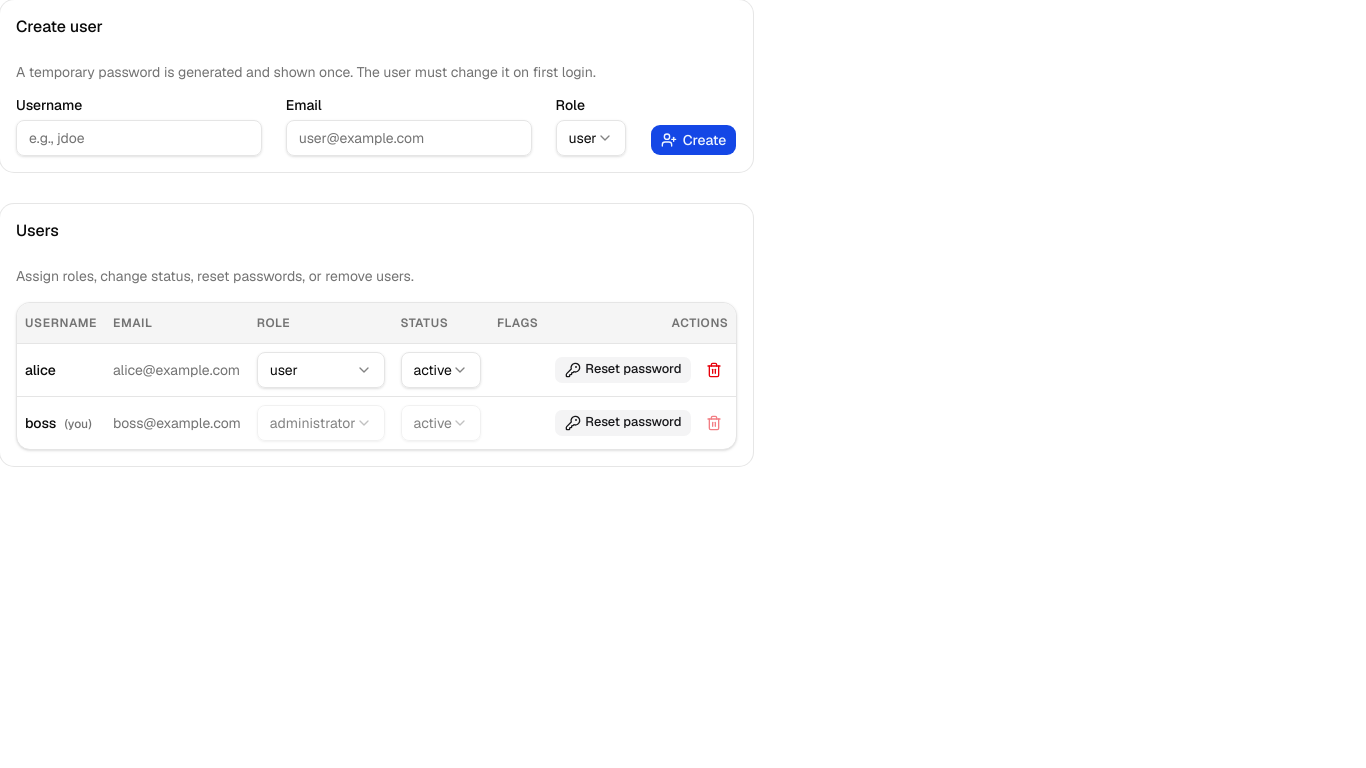
Test: create user shows the temporary password once
Check: the text "alice" is shown, box [25, 360, 56, 378]
Type "newbie" into the field labelled "Username". click: coordinates (139, 138)
box: [16, 120, 262, 156]
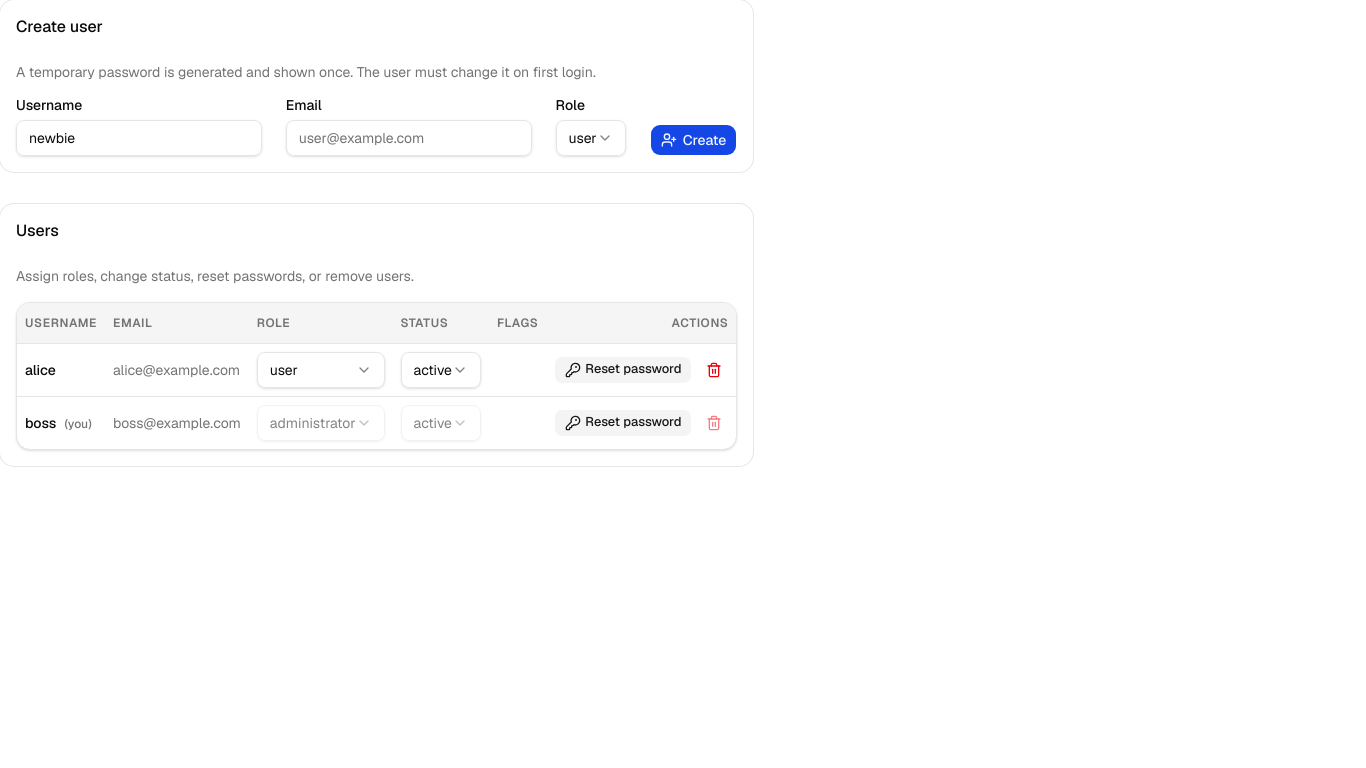
Type "newbie@example.com" into the field labelled "Email". click: coordinates (409, 138)
box: [286, 120, 532, 156]
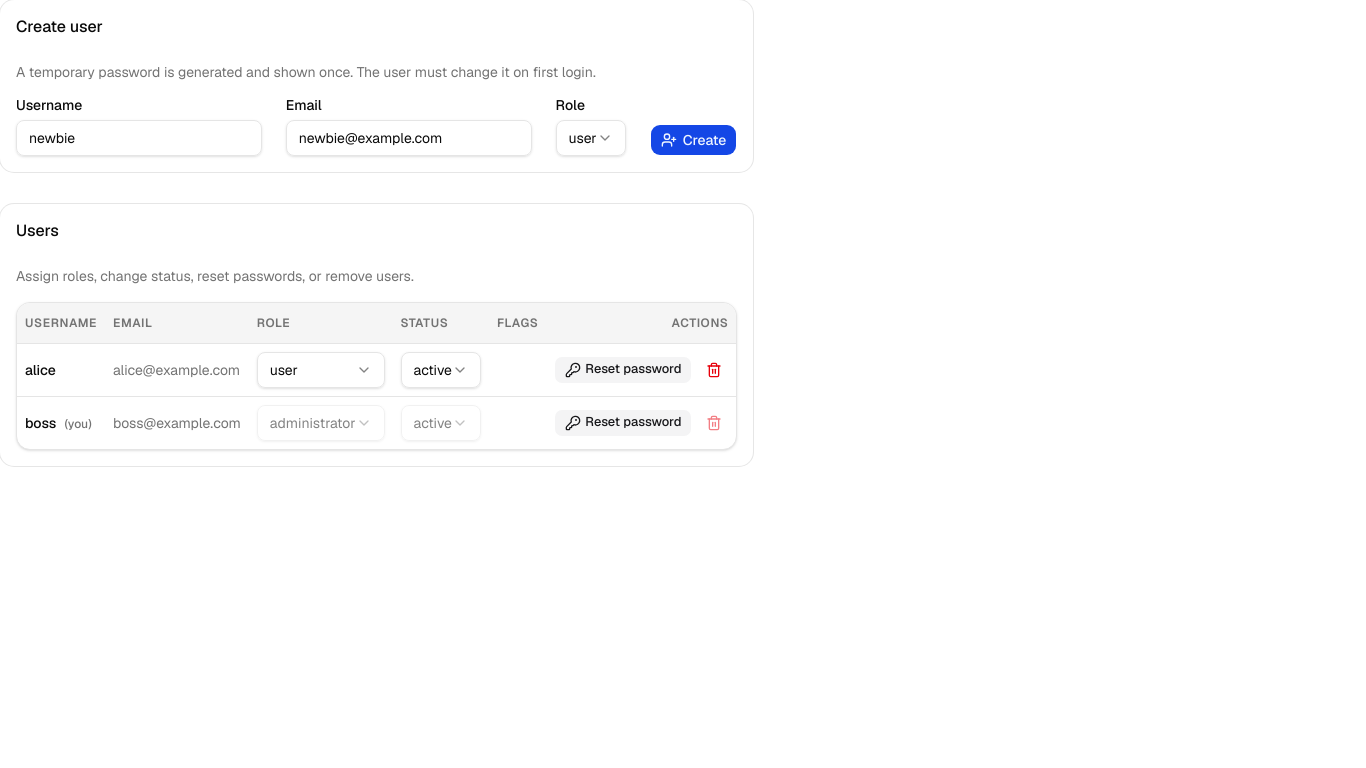
Click the button "Create". click: coordinates (694, 140)
box: [650, 124, 737, 156]
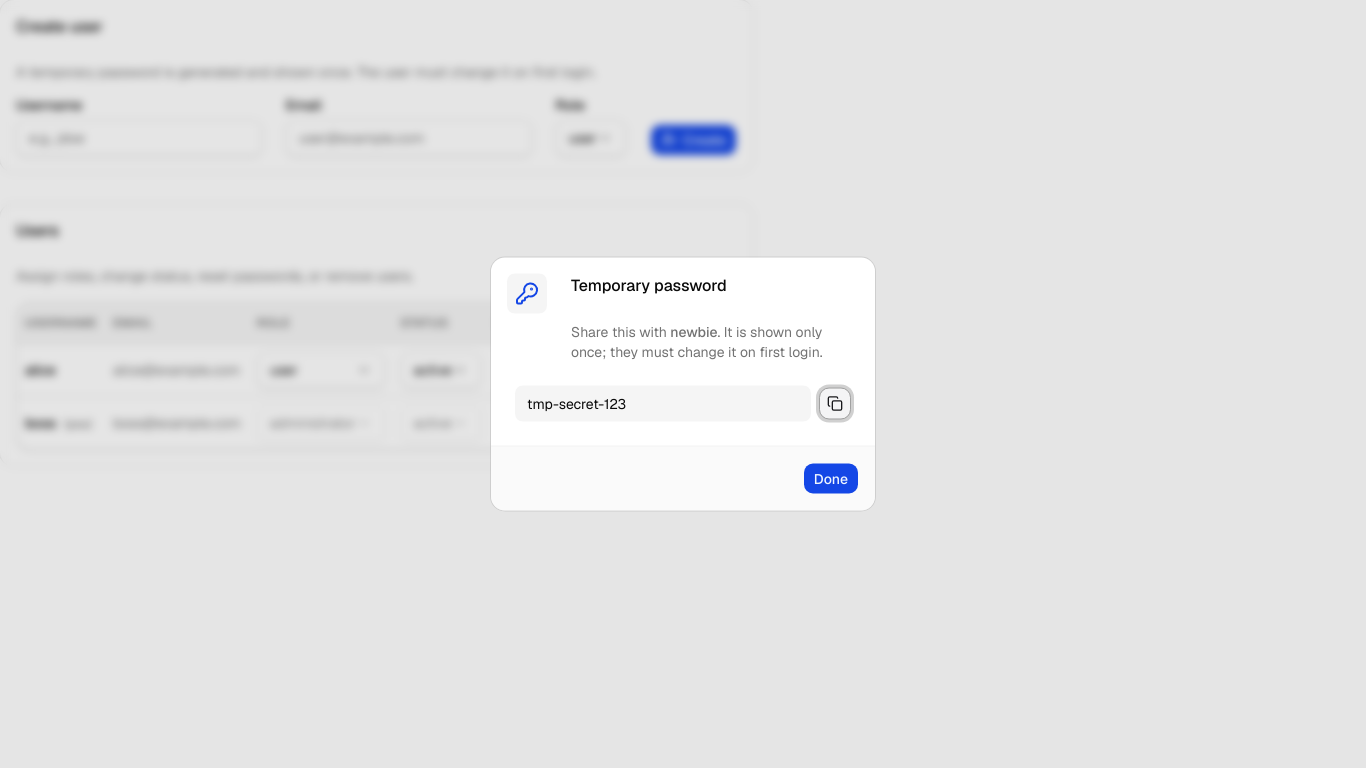
Check: the text "tmp-secret-123" is shown, box [515, 386, 811, 422]
